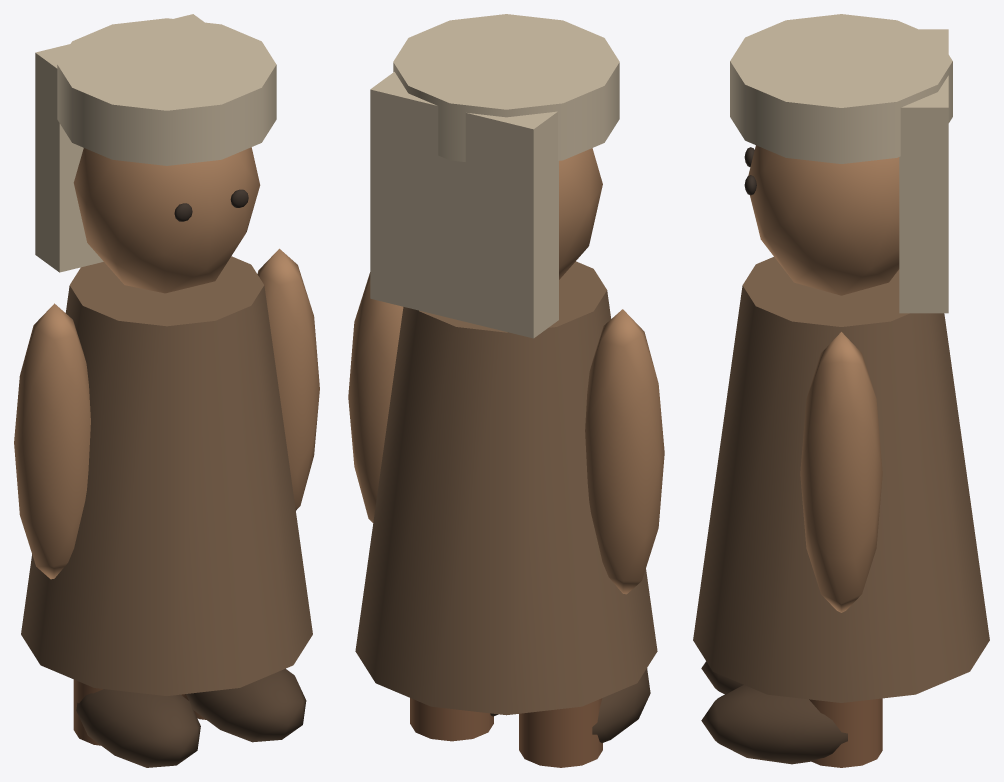
Rendered from resident-sharrum.glb.
3 views of the same model, side by side, from view 1: azimuth 30°, elevation 25°; view 2: azimuth 150°, elevation 25°; view 3: azimuth 270°, elevation 25° (orthographic). The views are drawn at different scales.
Visible parts, largest first — view 1: resident-sharrum; view 2: resident-sharrum; view 3: resident-sharrum.
Part boxes in pixels (bbox=[...]): resident-sharrum: bbox=[14, 14, 319, 767]; resident-sharrum: bbox=[348, 14, 664, 767]; resident-sharrum: bbox=[693, 14, 989, 767].
Size of the model in its own units: 0.84 by 1.79 by 0.72.
